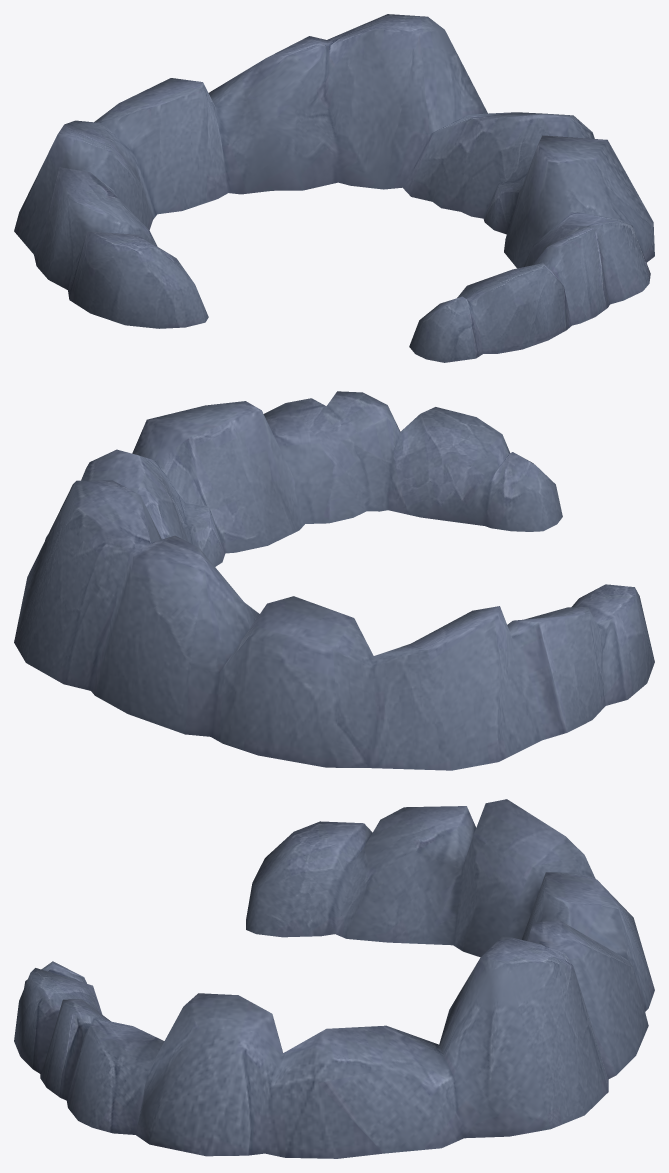
Rendered from stone_ring.glb.
3 renders of one model, top to bottom at view 1: azimuth 30°, elevation 25°; view 2: azimuth 150°, elevation 25°; view 3: azimuth 270°, elevation 25°, orthographic. The views are drawn at different scales.
Visible parts, largest first — view 1: tripo_node_cf5e5a40-10e4-4d55-a490-b40789ebe867; view 2: tripo_node_cf5e5a40-10e4-4d55-a490-b40789ebe867; view 3: tripo_node_cf5e5a40-10e4-4d55-a490-b40789ebe867.
Part boxes in pixels (x1=…): tripo_node_cf5e5a40-10e4-4d55-a490-b40789ebe867: x1=14, y1=14, x2=654, y2=362; tripo_node_cf5e5a40-10e4-4d55-a490-b40789ebe867: x1=14, y1=391, x2=654, y2=770; tripo_node_cf5e5a40-10e4-4d55-a490-b40789ebe867: x1=14, y1=799, x2=654, y2=1158.
Size of the model in its own units: 0.998 by 0.252 by 0.998.
Materials: 1 (1 with a texture image).
